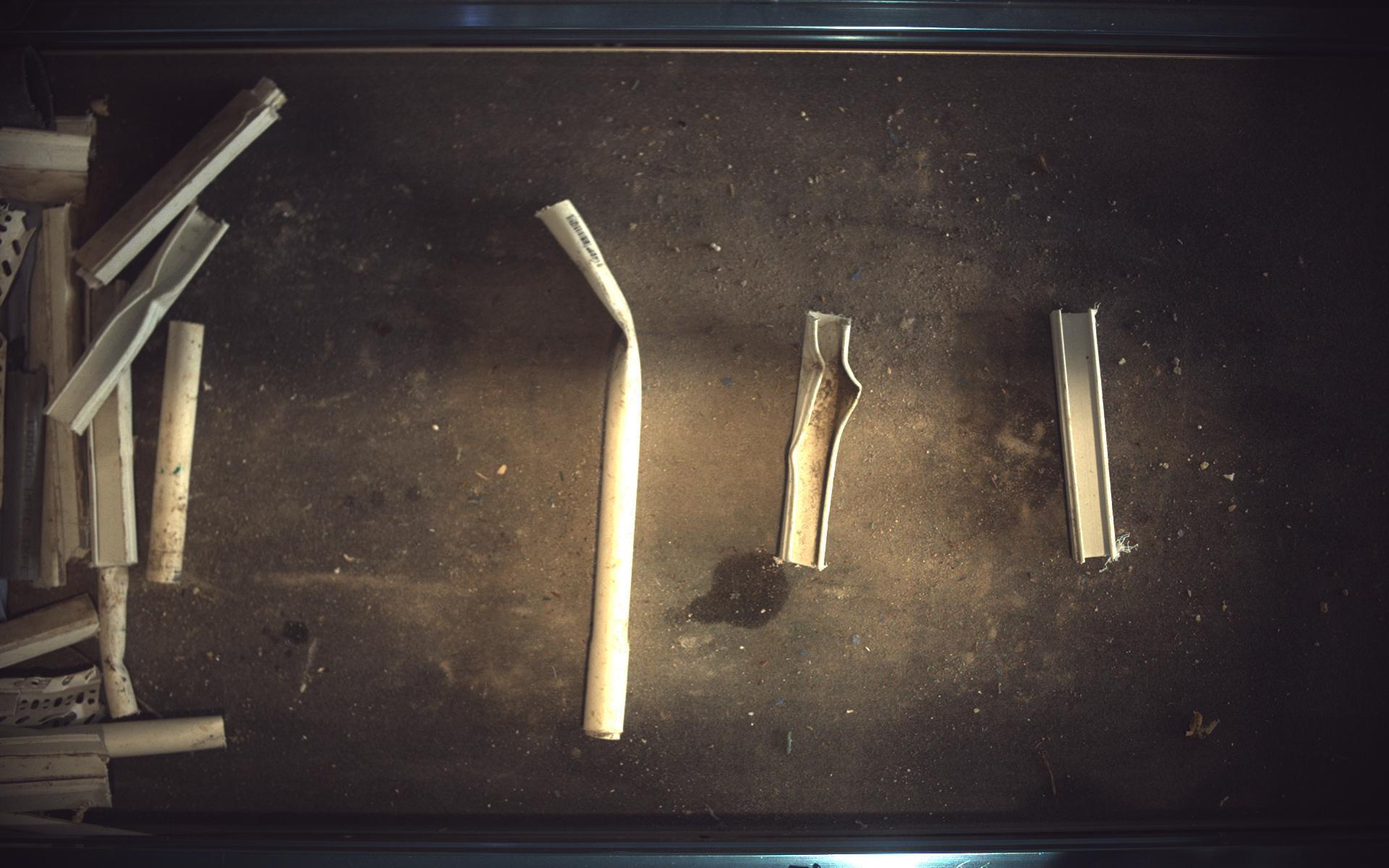pipes: (537, 199, 642, 741), (145, 320, 203, 584), (96, 566, 137, 720), (101, 717, 224, 759)
plastic: (74, 77, 286, 288), (45, 205, 228, 434), (778, 310, 864, 570), (1053, 308, 1121, 563), (27, 203, 80, 398), (86, 367, 137, 569), (1, 726, 111, 815), (33, 420, 86, 588), (1, 115, 95, 200), (2, 595, 98, 669), (1, 668, 103, 728), (1, 236, 35, 357), (7, 202, 41, 233)
